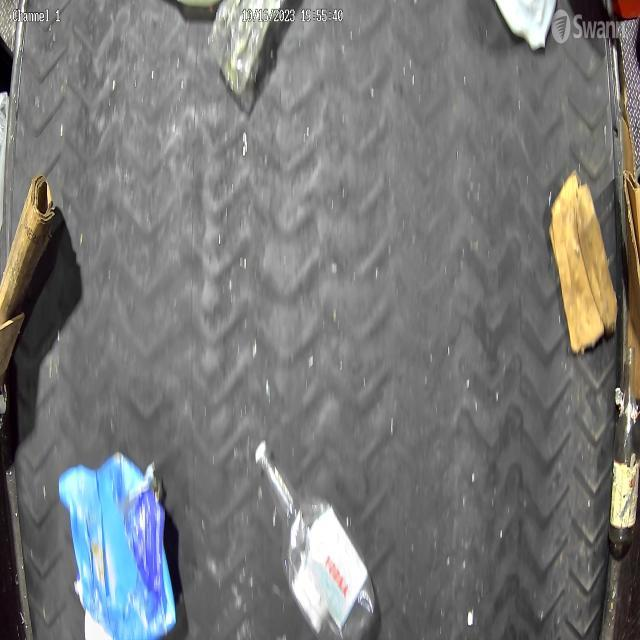non_white_jug: (50, 440, 180, 640)
